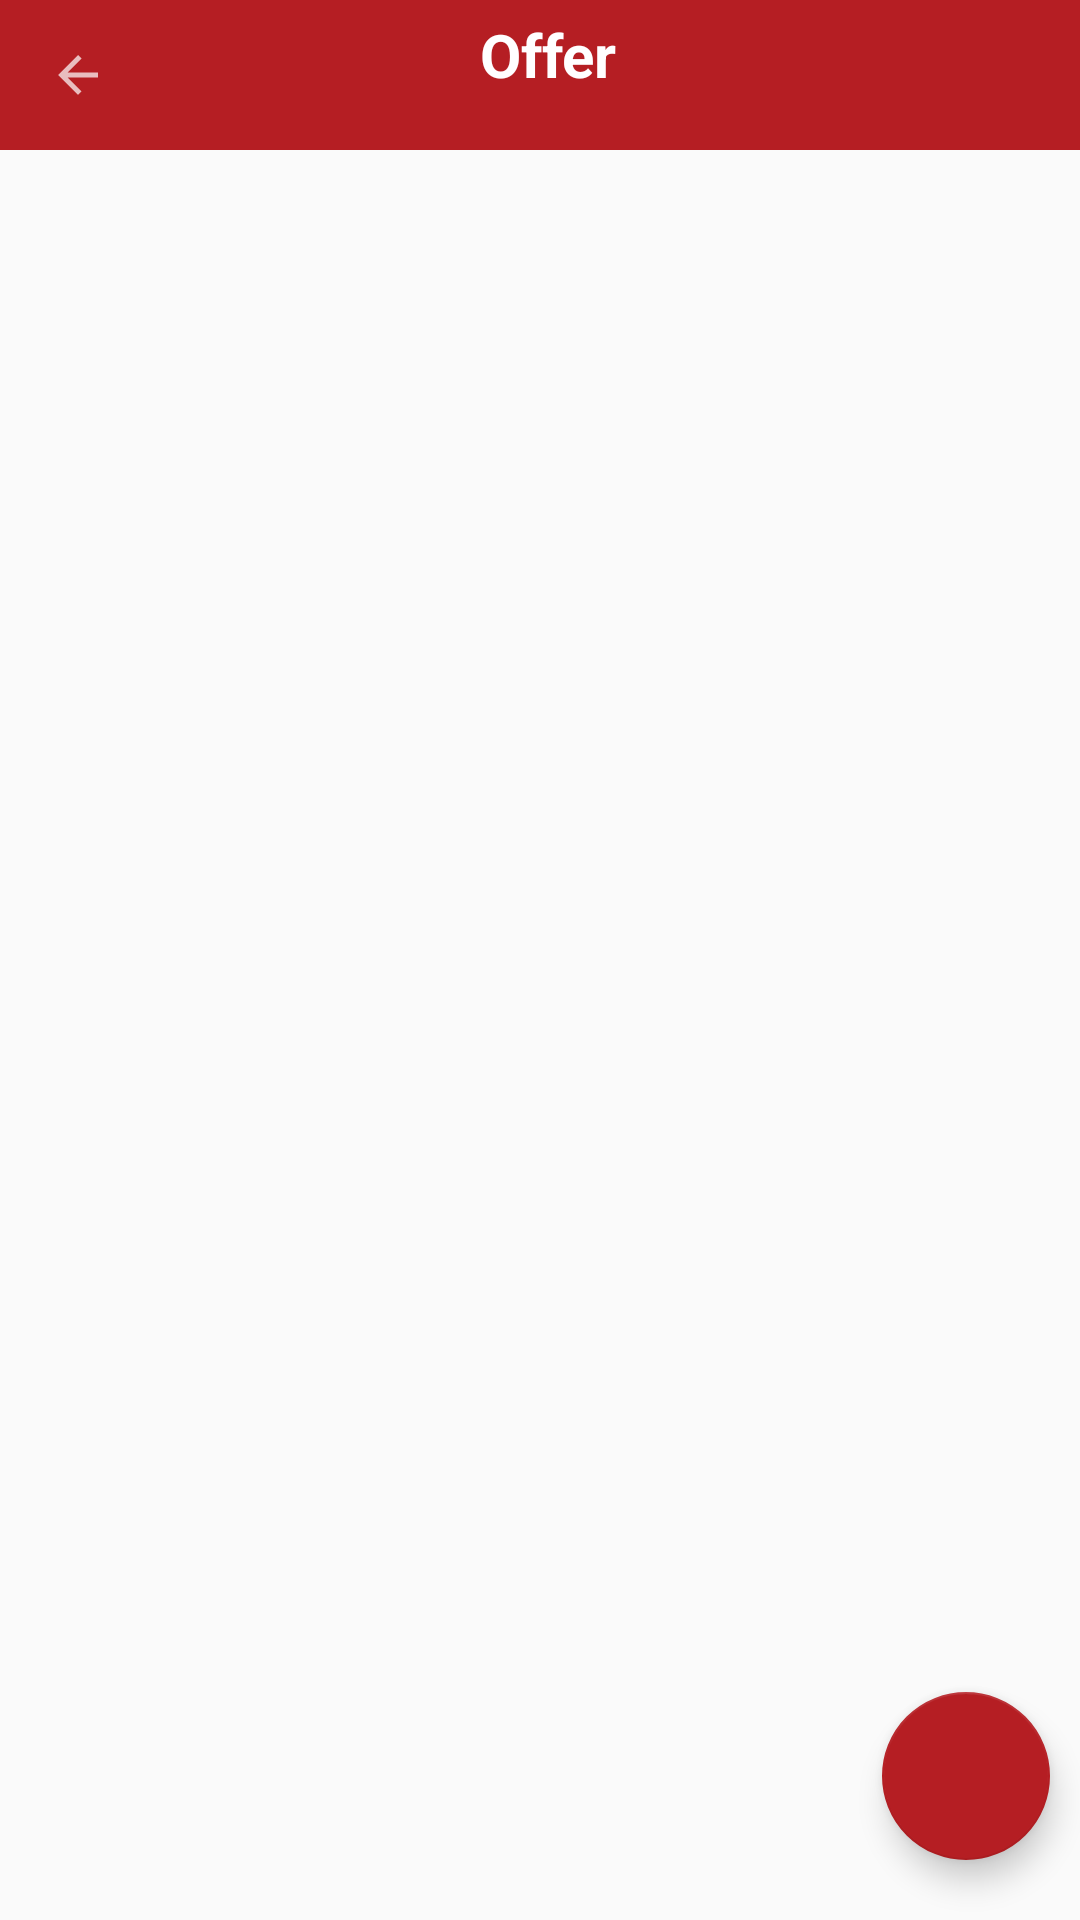

Where to tap for icons on this 1080*1920 app screen, as point (x, y):
rof backbutton: point (78, 75)
